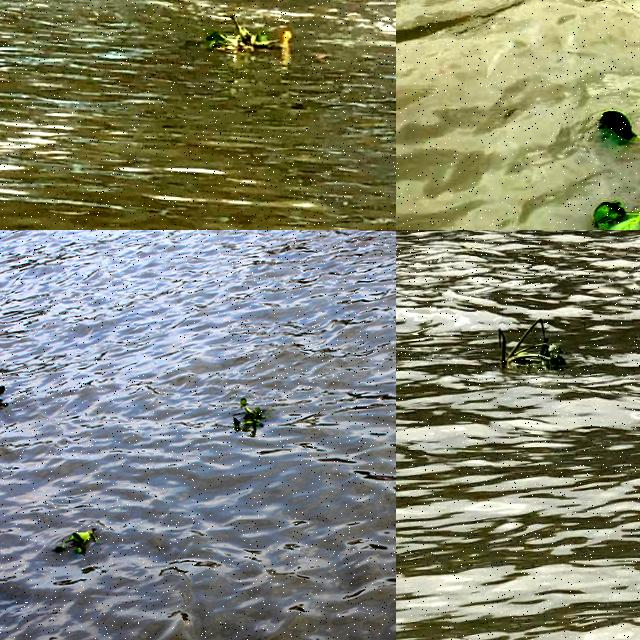water-hyacinth: (486, 317, 577, 380), (180, 16, 285, 53), (49, 523, 103, 559), (231, 395, 264, 435), (1, 380, 14, 414)
